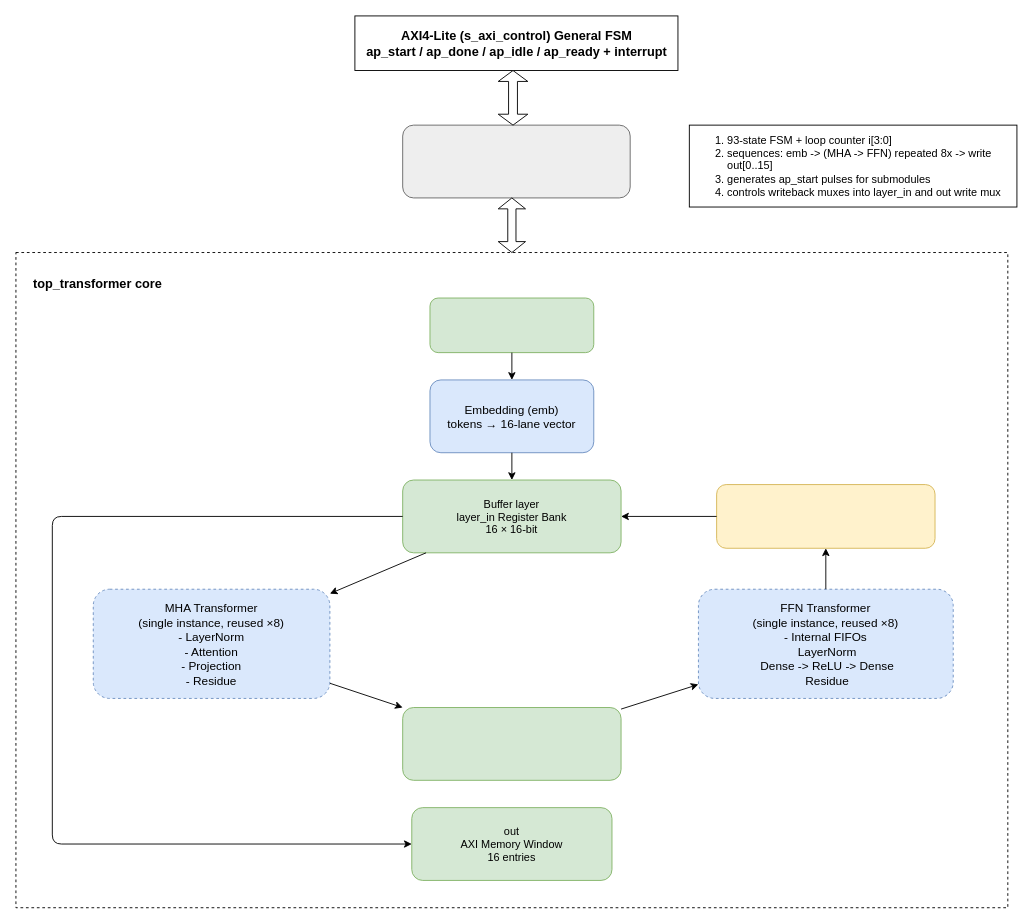
Image size: 1033x924. Some labels were removed from this diagram. Here are the shapes that lost their labels. From the top down, the centre of each, then its label:
At point 516,161: "General FSM loop counter (NUM_LAYER = 8)".
At point 511,325: "tokens (AXI register, 16b)".
At point 825,516: "Writeback MUX Loop counter FSM-controlled".
At point 511,743: "Buffer layer layer_out Register Bank 16 × 16-bit".
